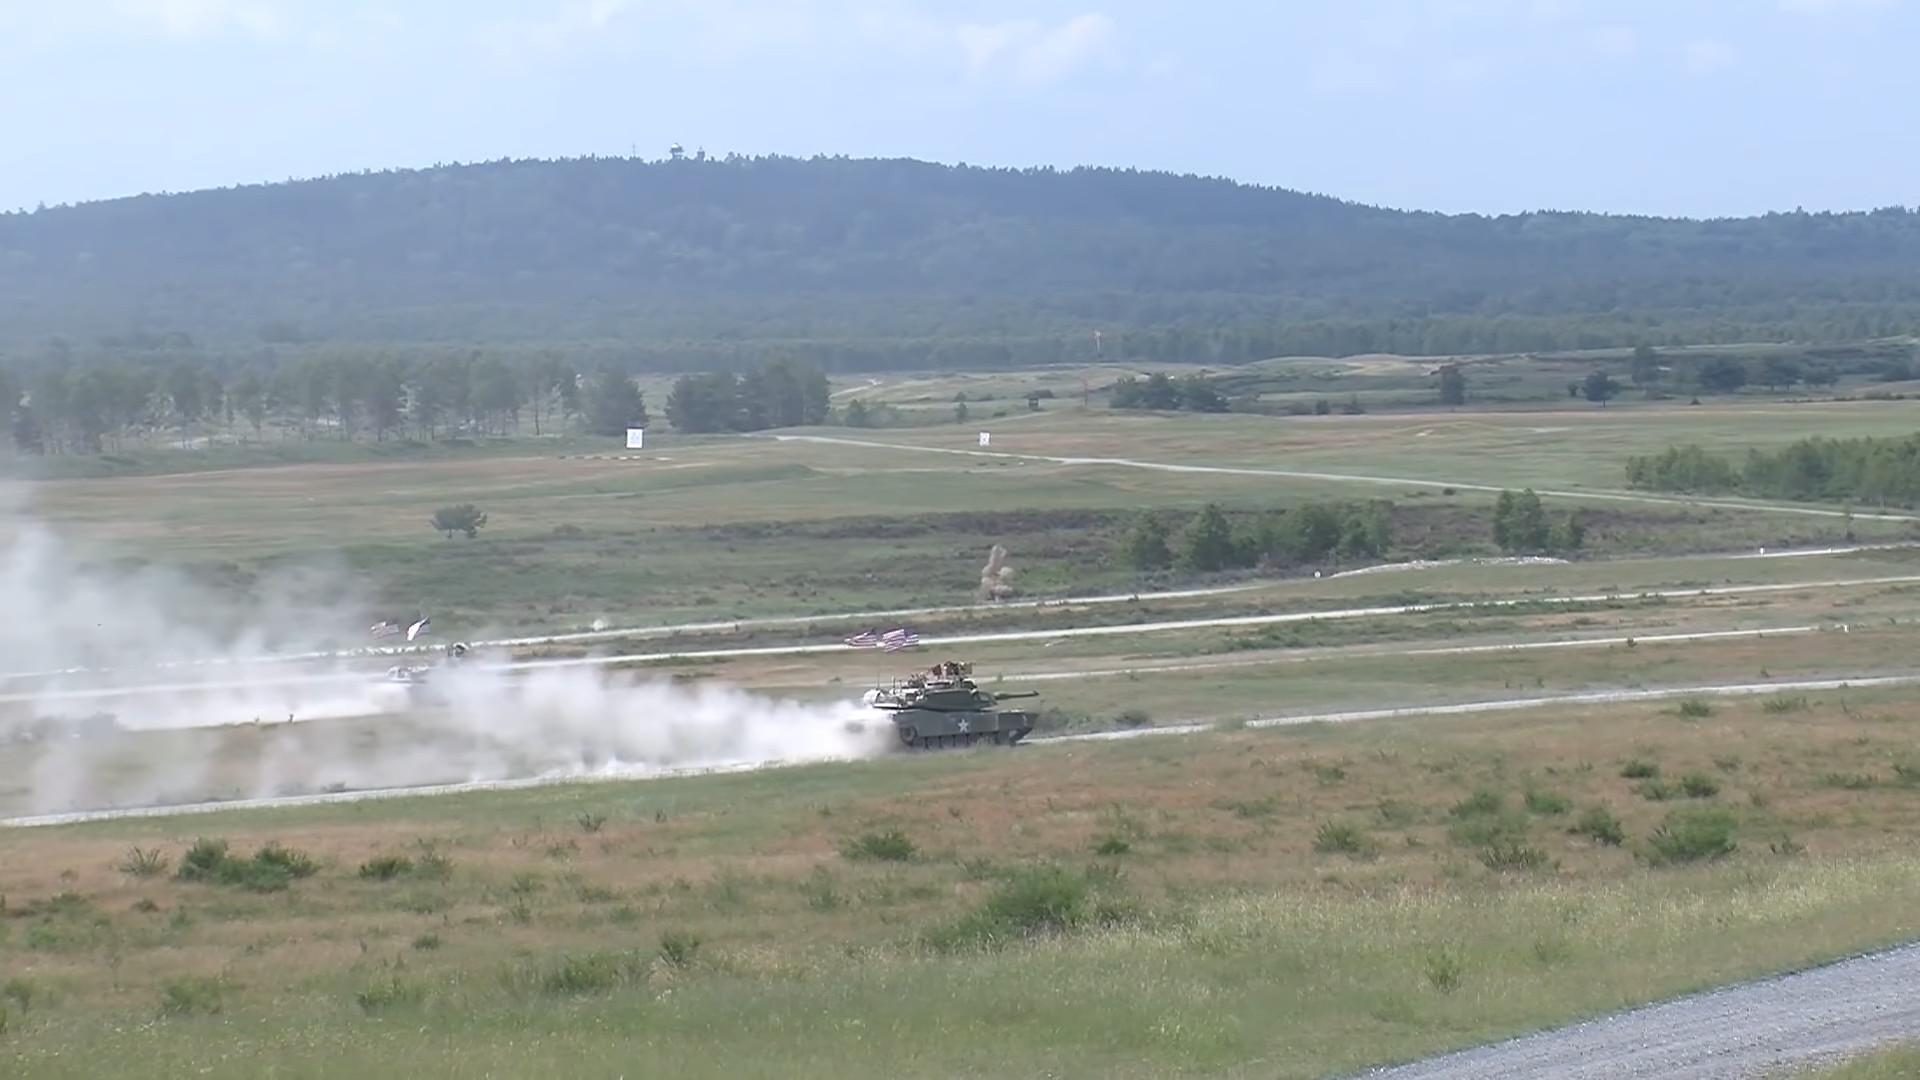tank: (865, 679, 1039, 752)
